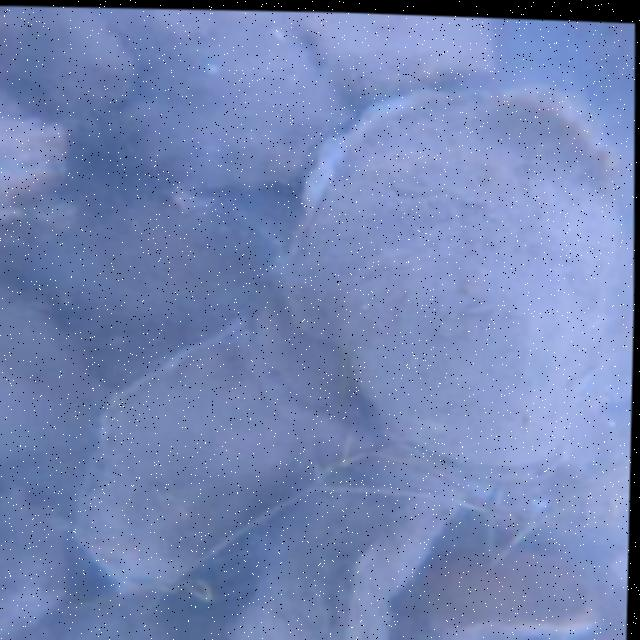Oyster-Closed: (285, 92, 613, 470)
Oyster-Indeterminate: (84, 344, 315, 592), (229, 443, 463, 640), (116, 10, 344, 196), (312, 14, 513, 99), (418, 544, 602, 630), (5, 7, 130, 130), (0, 89, 82, 252)
